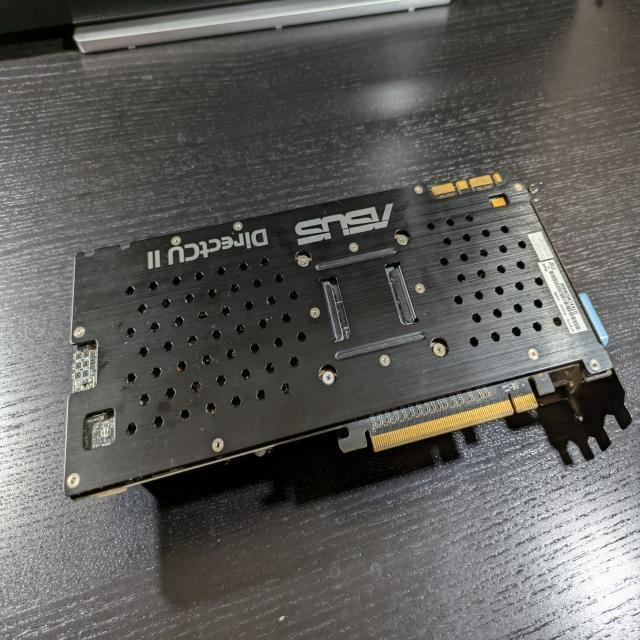GPU: (51, 169, 629, 504)
